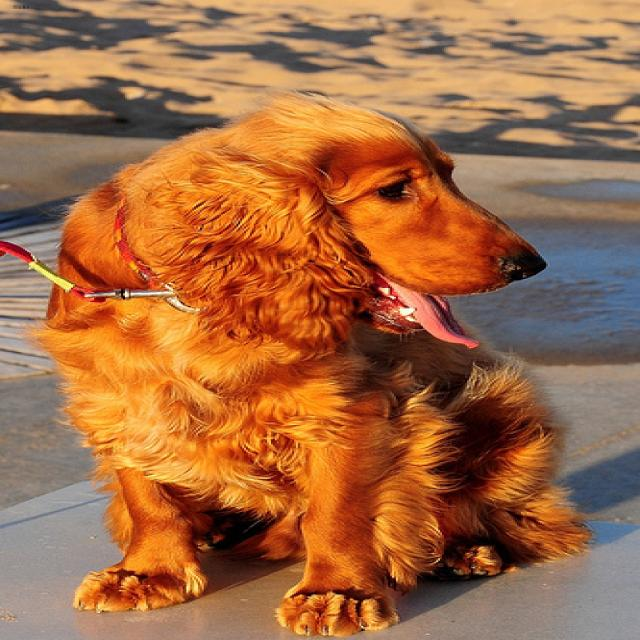dog-english_cocker_spaniel: (6, 86, 617, 637)
